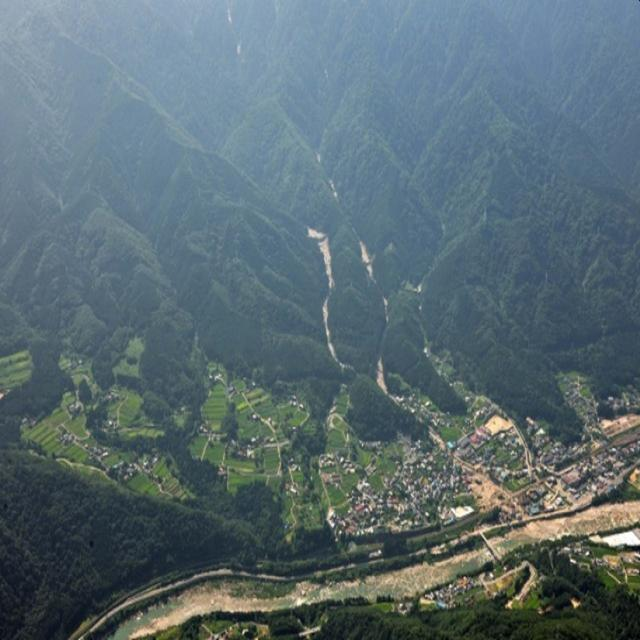Debris-flow: (308, 228, 349, 368), (361, 240, 374, 280), (376, 358, 388, 394), (488, 416, 512, 434)
